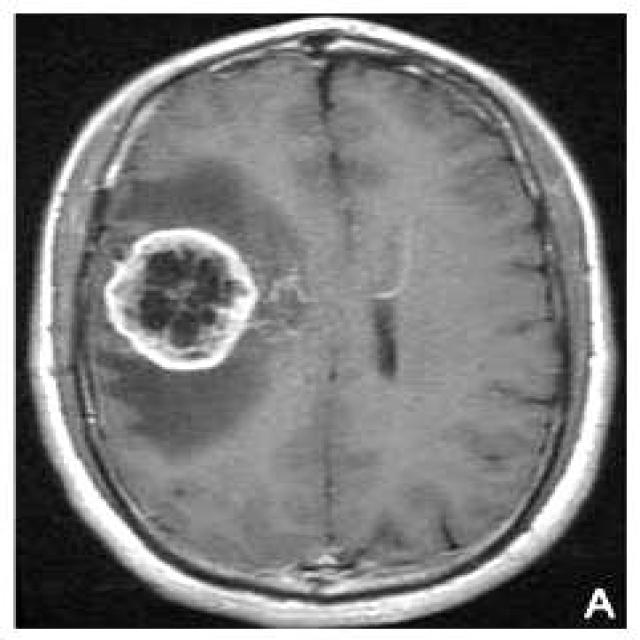Tumor-Cell: (70, 226, 282, 371)
